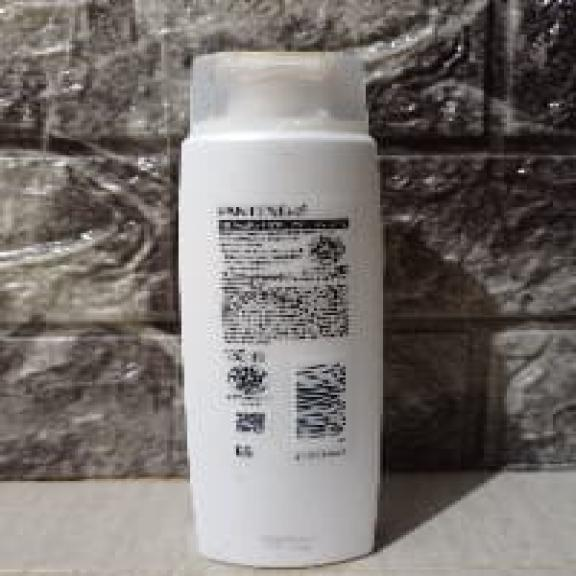Plastik: (176, 49, 396, 564)
